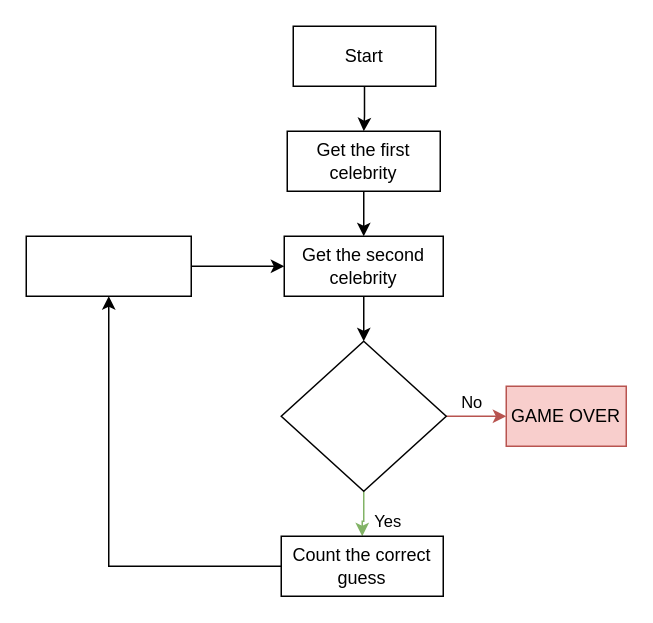
This 653x623 diagram has some shape labels left out. The shapes that lost their labels are listed below. From the top down, each one's box as (x1, y1, x2, y2) in pixels, then its label:
(25, 235, 191, 296): Make the second celebrity, the first one
(280, 340, 446, 491): Did the user guessed who has more followers
